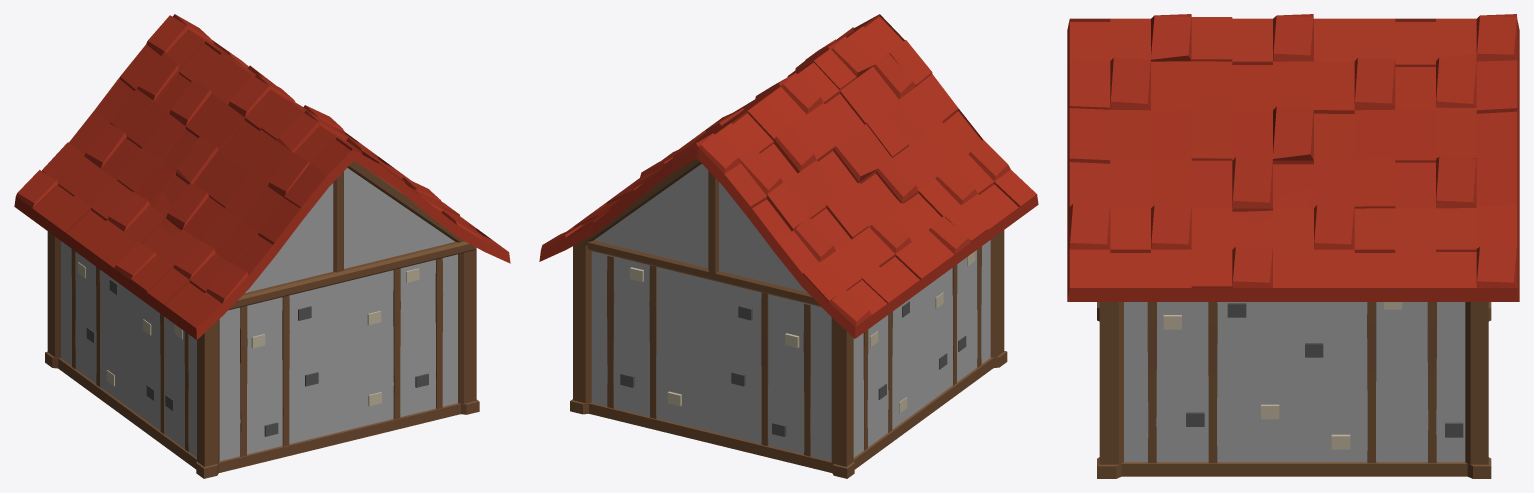
Rendered from house_roof.fbx.
3 renders of one model, left to right at view 1: azimuth 30°, elevation 25°; view 2: azimuth 150°, elevation 25°; view 3: azimuth 270°, elevation 25°, orthographic. The views are drawn at different scales.
Parts seen in each view (by area): view 1: House roof; view 2: House roof; view 3: House roof.
Part boxes in pixels (bbox=[...]): House roof: bbox=[14, 14, 510, 478]; House roof: bbox=[539, 14, 1038, 478]; House roof: bbox=[1067, 14, 1519, 478].
Bounding box in the file's own units: 593 × 554 × 598.
